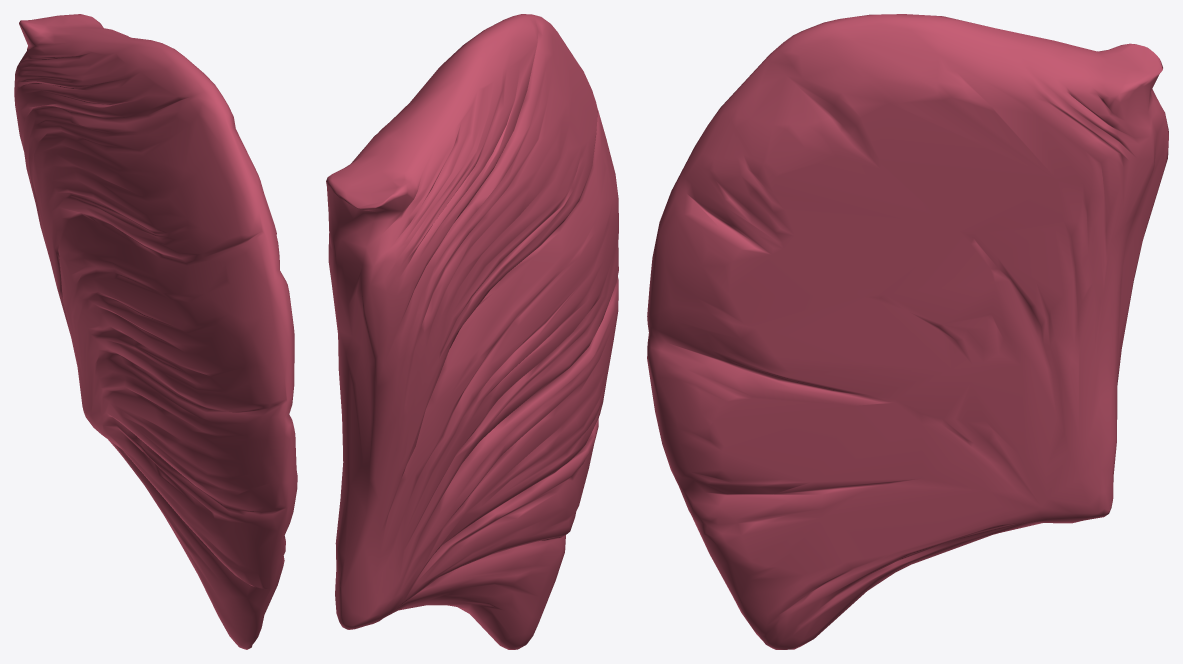
The picture shows the model from 3 angles, left to right: view 1: azimuth 30°, elevation 25°; view 2: azimuth 150°, elevation 25°; view 3: azimuth 270°, elevation 25°; orthographic projection. The views are drawn at different scales.
Parts seen in each view (by area): view 1: 右侧颏舌肌; view 2: 右侧颏舌肌; view 3: 右侧颏舌肌.
Boxes of the visible parts, x1,y1,x2,y2 form: 右侧颏舌肌: [14, 14, 297, 649]; 右侧颏舌肌: [326, 14, 618, 649]; 右侧颏舌肌: [647, 14, 1168, 649].
Size of the model in its own units: 0.0112 by 0.0701 by 0.0533.
